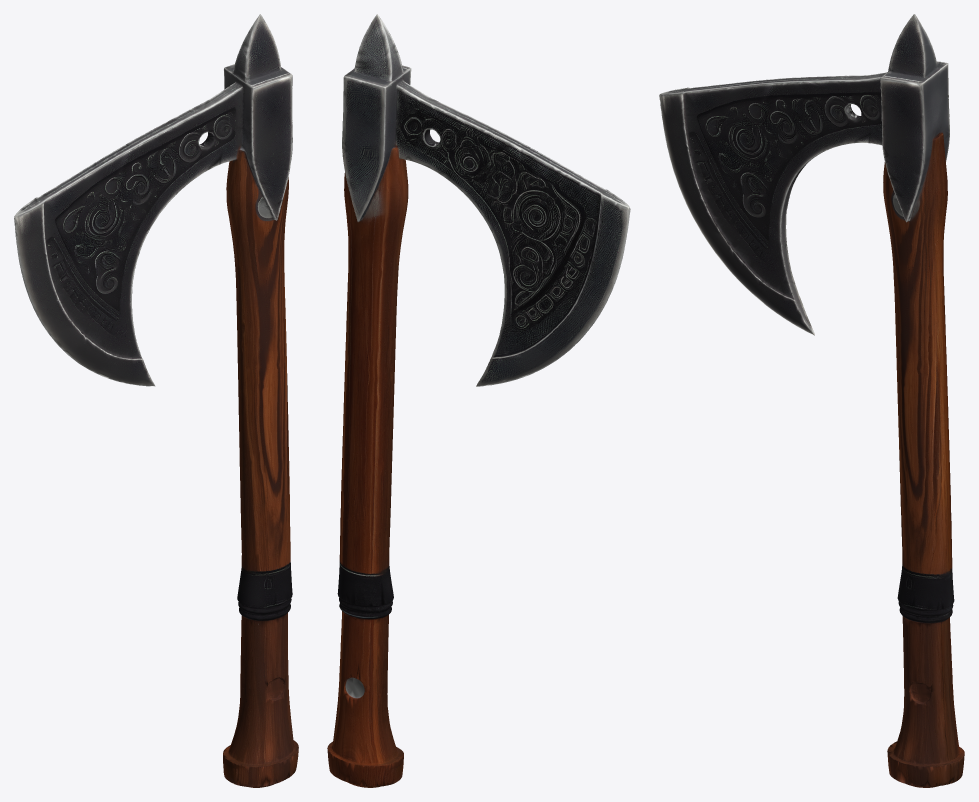
File: Standard.glb
3 views of the same model, side by side, from view 1: azimuth 30°, elevation 25°; view 2: azimuth 150°, elevation 25°; view 3: azimuth 330°, elevation 25° (orthographic).
Visible parts, largest first — view 1: Mesh_0.003; view 2: Mesh_0.003; view 3: Mesh_0.003.
Part boxes in pixels (box(x1,y1,x2,y2)): Mesh_0.003: box(14, 14, 298, 787); Mesh_0.003: box(327, 14, 630, 787); Mesh_0.003: box(659, 14, 964, 787).
Bounding box in the file's own units: 0.8765 × 2.22 × 0.1812.
1 material, 1 textured.
